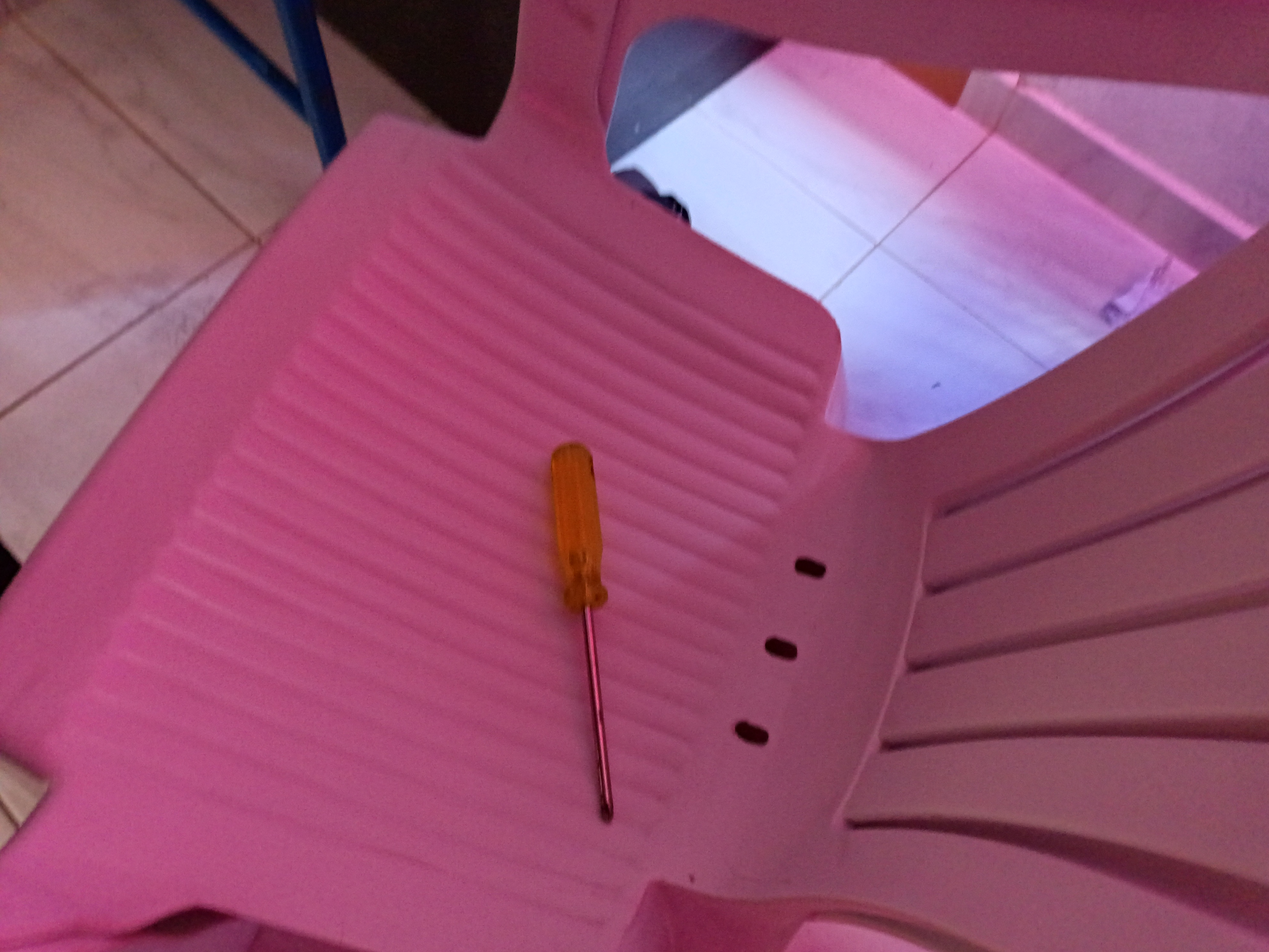Destornillador: (550, 442, 612, 818)
